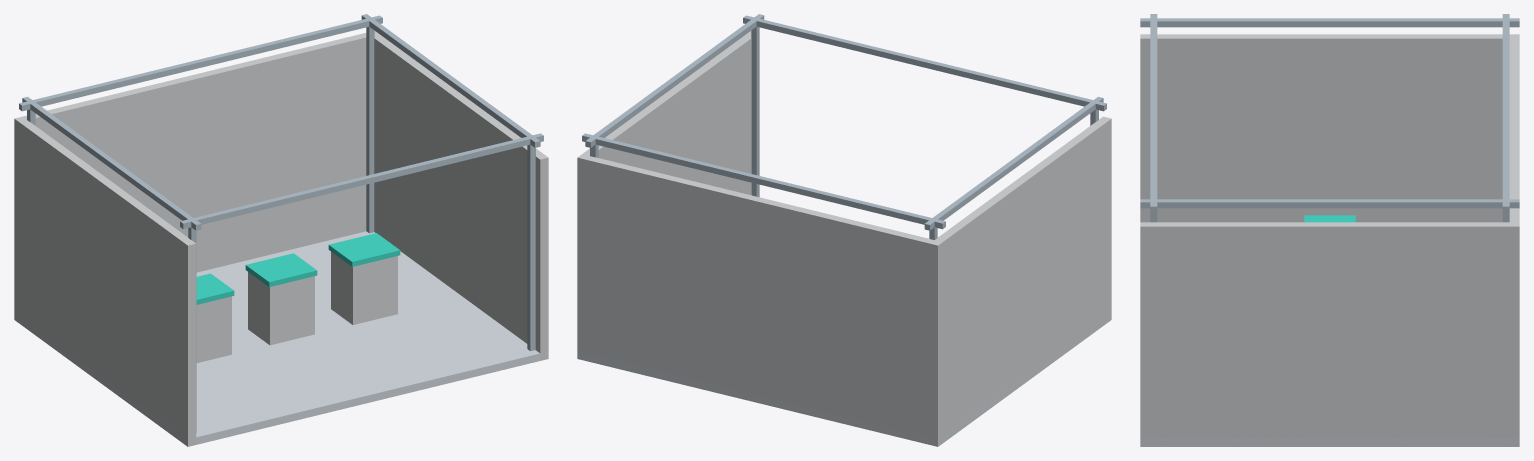
3 views of the same model, side by side, from view 1: azimuth 30°, elevation 25°; view 2: azimuth 150°, elevation 25°; view 3: azimuth 270°, elevation 25° (orthographic). The views are drawn at different scales.
Visible parts, largest first — view 1: Exhibition Booth Concept; view 2: Exhibition Booth Concept; view 3: Exhibition Booth Concept.
Boxes of the visible parts, left/top/right/bottom form: Exhibition Booth Concept: left=14, top=14, right=548, bottom=446; Exhibition Booth Concept: left=577, top=14, right=1111, bottom=446; Exhibition Booth Concept: left=1140, top=14, right=1519, bottom=446.
Bounding box in the file's own units: 6 × 3.49 × 5.
